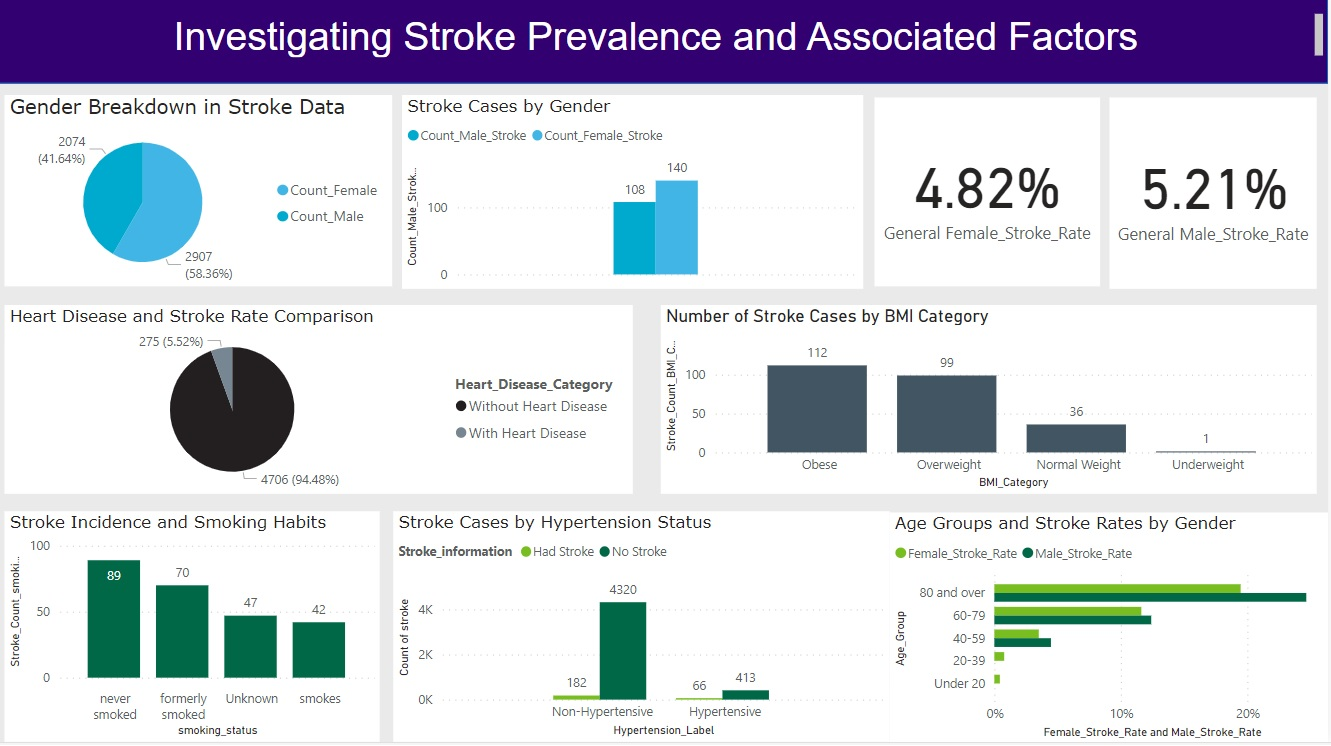

The dashboard page shown, as its layout file describes it:
{"tool":"powerbi","page":{"name":"Data_","canvas":[1280,720],"ordinal":0},"visuals":[{"type":"clusteredColumnChart","title":"Stroke Cases by Gender","fields":{"Y":["brain_stroke.Count_Male_Stroke","brain_stroke.Count_Female_Stroke"]},"box":[392.4,100.4,441.5,185.7],"z":0},{"type":"pieChart","title":"Gender Breakdown in Stroke Data","fields":{"Y":["brain_stroke.Count_Female","brain_stroke.Count_Male"]},"box":[11.7,100.4,371.4,183.4],"z":1000},{"type":"clusteredBarChart","title":"Age Groups and Stroke Rates by Gender","fields":{"Category":["brain_stroke.Age_Group"],"Y":["brain_stroke.Female_Stroke_Rate","brain_stroke.Male_Stroke_Rate"]},"box":[859.6,499.9,420.4,220.7],"z":2000},{"type":"shape","box":[0,0,1279,89.5],"z":3000},{"type":"textbox","box":[0,18.5,1279,51.6],"z":4000},{"type":"clusteredColumnChart","title":"Stroke Cases by Hypertension Status","fields":{"Category":["brain_stroke.Hypertension_Label"],"Series":["brain_stroke.Stroke_information"],"Y":["CountNonNull(brain_stroke.stroke)"]},"box":[384,499.1,475.2,221],"z":5000},{"type":"pieChart","title":"Heart Disease and Stroke Rate Comparison","fields":{"Category":["brain_stroke.Heart_Disease_Category"],"Y":["CountNonNull(brain_stroke.Patient_)"]},"box":[11.7,301.3,601.5,181],"z":6000},{"type":"columnChart","title":"Stroke Incidence and Smoking Habits","fields":{"Category":["brain_stroke.smoking_status"],"Y":["brain_stroke.Stroke_Count_smoking_status"]},"box":[12,499.1,359.1,221],"z":7000},{"type":"clusteredColumnChart","title":"Number of Stroke Cases by BMI Category","fields":{"Category":["brain_stroke.BMI_Category"],"Y":["brain_stroke.Stroke_Count_BMI_Category"]},"box":[640,301.3,628.3,181],"z":8000},{"type":"card","fields":{"Values":["brain_stroke.General Female_Stroke_Rate"]},"box":[845.5,102.8,216.1,181],"z":9000},{"type":"card","fields":{"Values":["brain_stroke.General Male_Stroke_Rate"]},"box":[1069.8,102.8,198.5,183.4],"z":10000}]}

Visuals, with their boxes in screenshot pixels (x1, y1, x2, y2), scaled from the page's 1280x720 canvas onto the 1331x746 screenshot:
"Stroke Cases by Gender" clusteredColumnChart: [408,104,867,296]
"Gender Breakdown in Stroke Data" pieChart: [12,104,398,294]
"Age Groups and Stroke Rates by Gender" clusteredBarChart: [894,518,1330,745]
shape: [0,0,1330,93]
textbox: [0,19,1330,73]
"Stroke Cases by Hypertension Status" clusteredColumnChart: [399,517,893,745]
"Heart Disease and Stroke Rate Comparison" pieChart: [12,312,638,500]
"Stroke Incidence and Smoking Habits" columnChart: [12,517,386,745]
"Number of Stroke Cases by BMI Category" clusteredColumnChart: [666,312,1319,500]
card - brain_stroke.General Female_Stroke_Rate: [879,107,1104,294]
card - brain_stroke.General Male_Stroke_Rate: [1112,107,1319,297]
